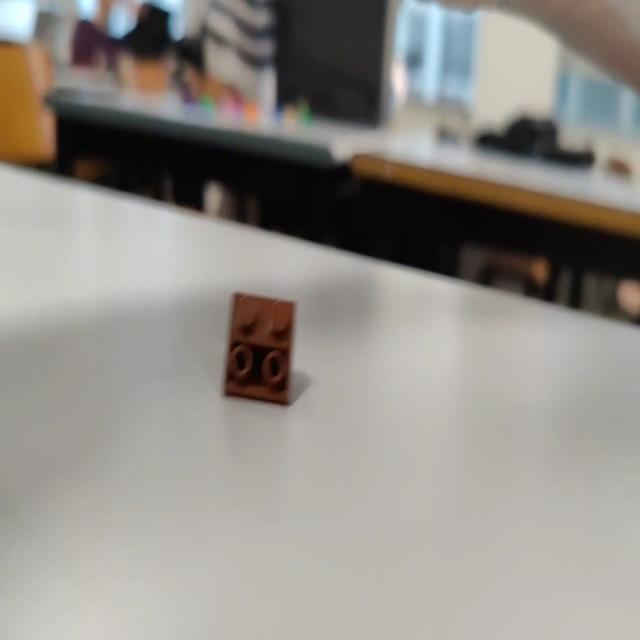X2x2x1: (221, 289, 297, 405)
